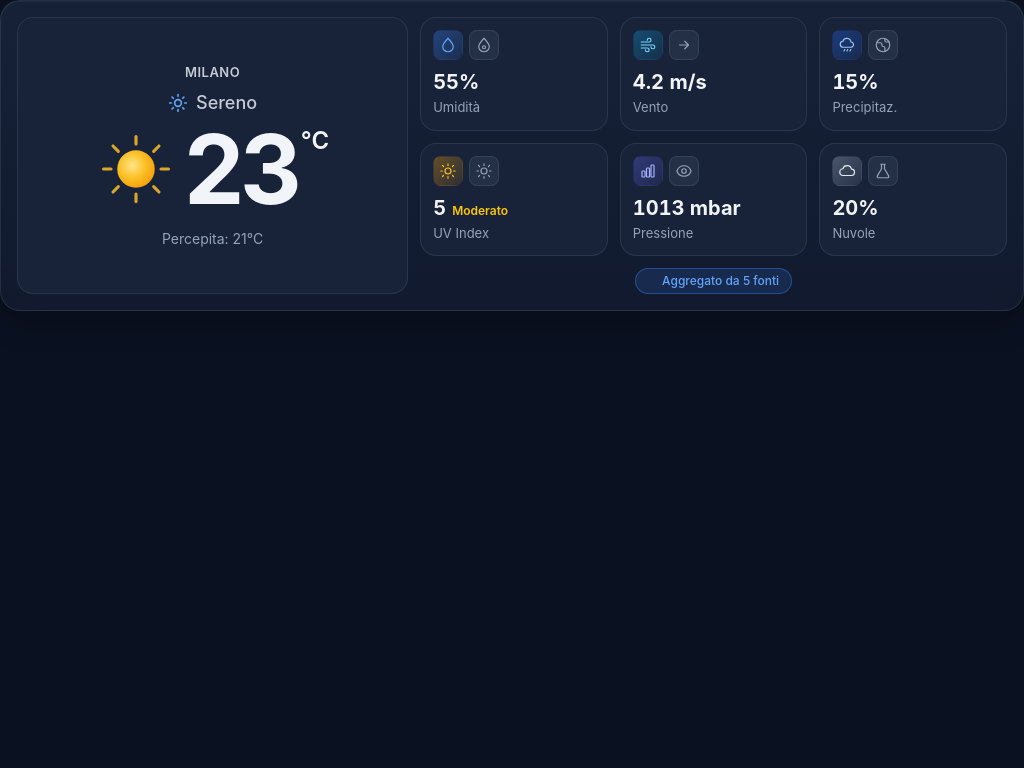
CurrentWeather air quality › opens the detail with every pollutant and the generated description
Click the text "Precipitaz.": (865,108) [832,98,897,118]
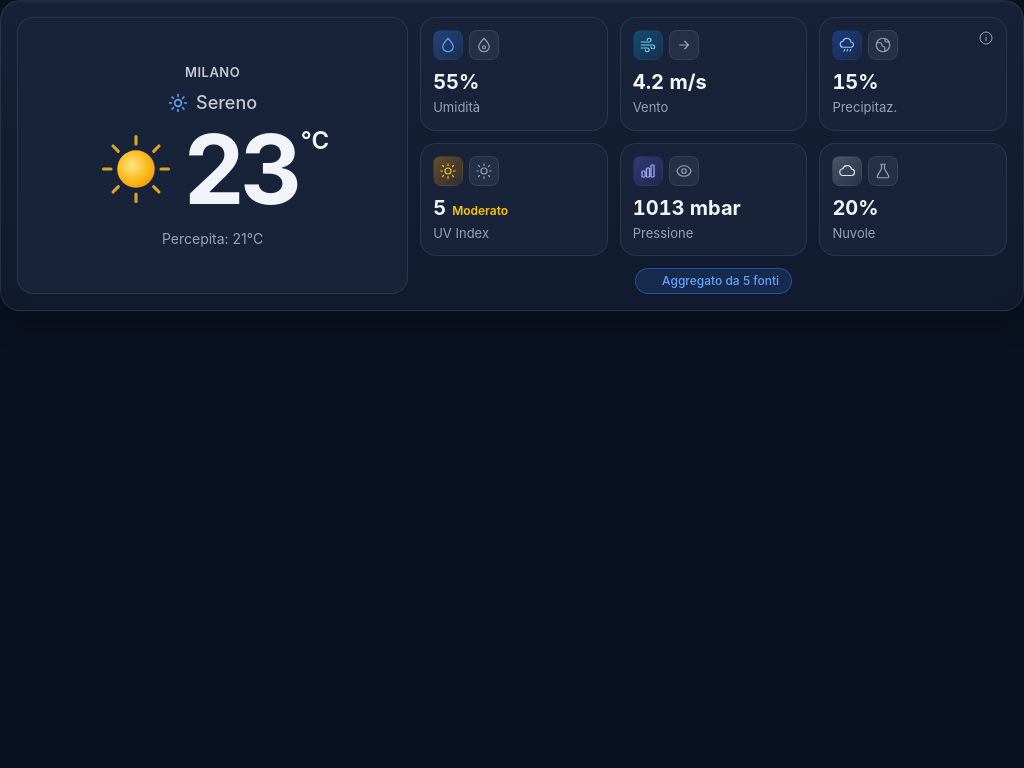
Click the button named "Dettaglio qualità dell'aria": (986,38) [974,26,998,50]
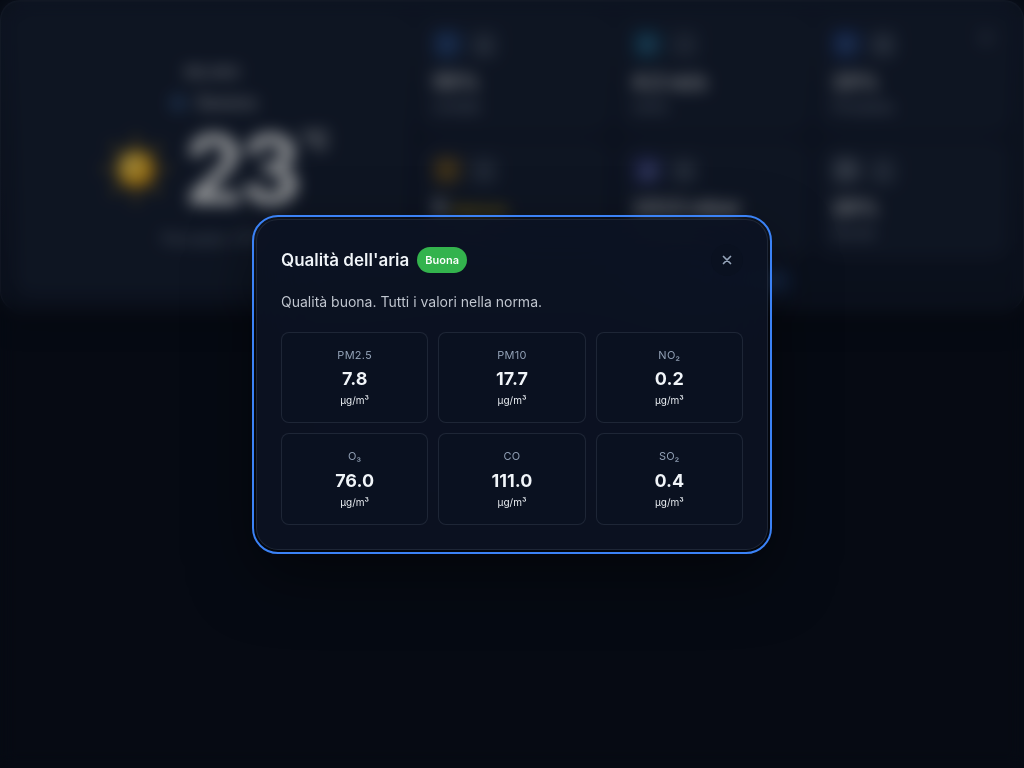
Expected: the dialog is shown, [256,218,768,550]
Expected: the text "Qualità buona. Tutti i valori nella norma." is shown, [281,292,542,310]
Expected: the text "PM2.5" is shown, [337,348,372,362]
